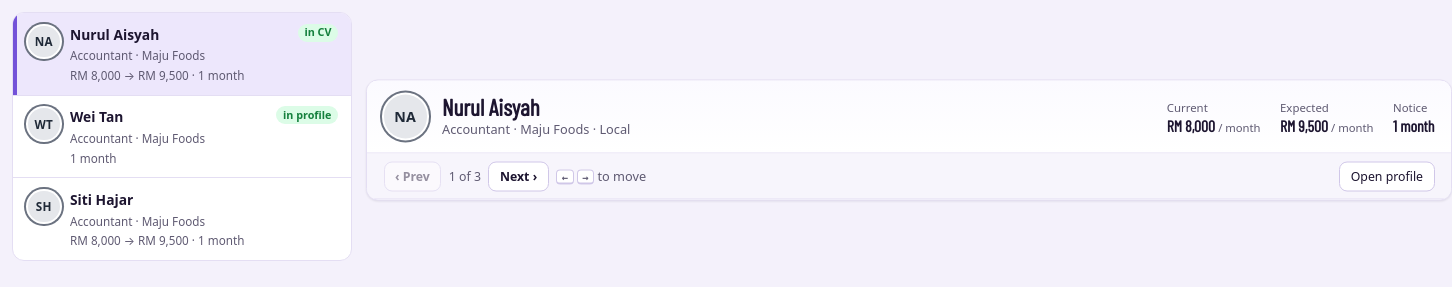
Test: reading search results as resumes › keeps pay hidden from those who may not see it
What coordinates should you click on to do the following:
click the button "WT Wei Tan Accountant · Maju Foods 1 month in profile"
I would click on:
 (182, 136)
Its box is top-left (13, 96), bottom-right (351, 177).
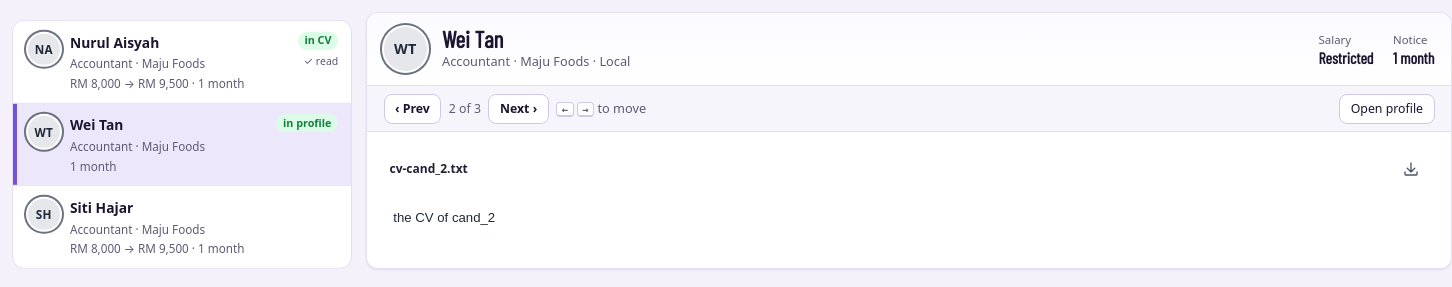
Expected: the element named "Resume of Wei Tan" shows "Restricted", top-left (1319, 48), bottom-right (1374, 68)
Expected: the element "Resume of Wei Tan" no longer shows "RM"
